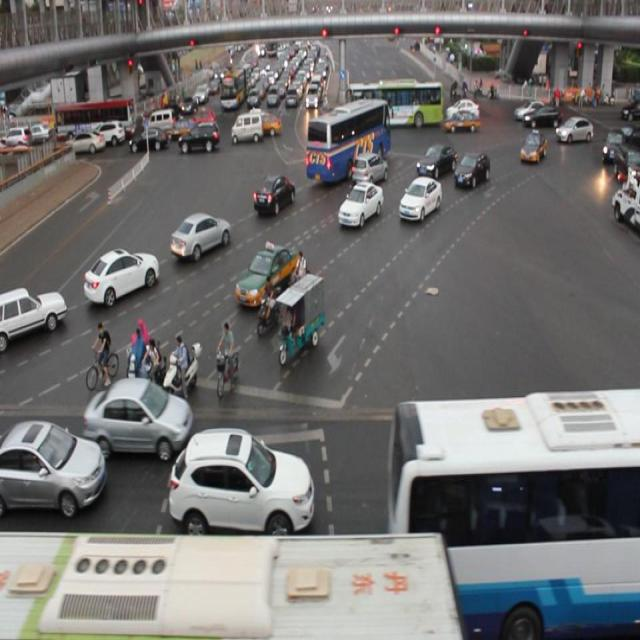car: (168, 424, 314, 532), (437, 424, 554, 538), (1, 418, 105, 514), (85, 375, 192, 463), (1, 282, 68, 349), (85, 246, 159, 306), (234, 245, 300, 305), (170, 211, 230, 262), (337, 181, 382, 229), (399, 178, 440, 219), (254, 175, 298, 211), (454, 150, 490, 190), (416, 144, 458, 178), (553, 112, 592, 143), (352, 153, 388, 184), (519, 129, 544, 164)
van: (388, 378, 640, 640), (1, 520, 463, 640), (307, 101, 391, 178)
